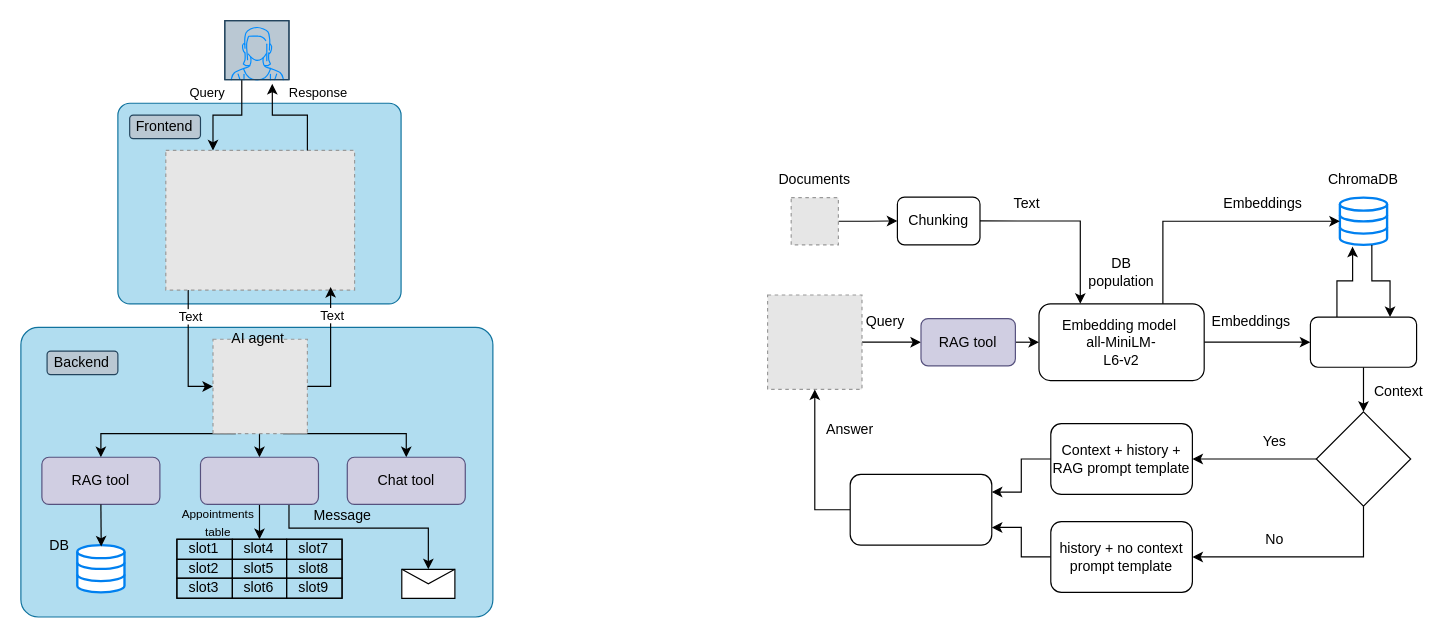
This 1455x638 diagram has some shape labels left out. Grey dashed boxes stand in for pictures. Each missing label, with the centre of its shape:
"Action tools" belongs at (x=258, y=480).
"Ollama API Qwen3:4b" belongs at (x=920, y=509).
"Retrieval" belongs at (x=1363, y=341).
"score < thr" belongs at (x=1363, y=458).
